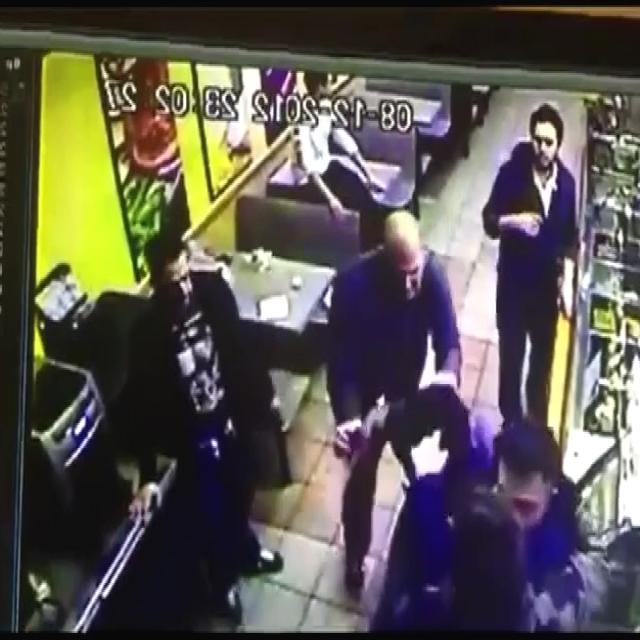fight: (335, 376, 584, 636)
